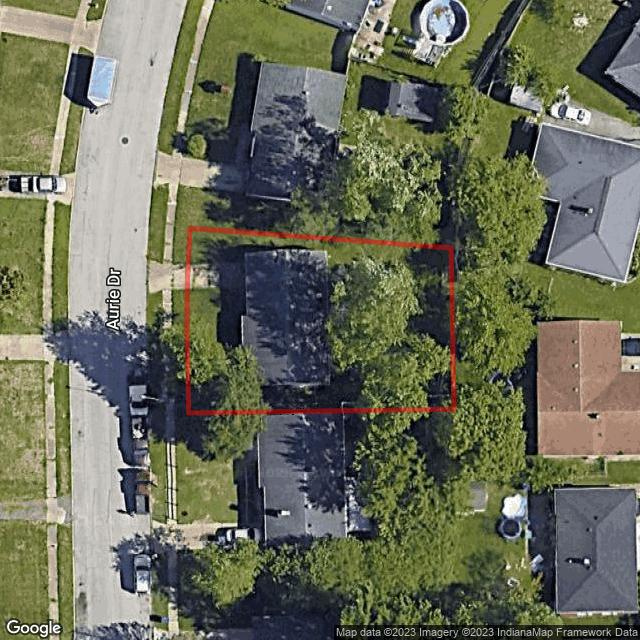Driveway: (190, 264, 245, 291)
Extra Driveway: (147, 259, 186, 297)
Extra Lawn: (146, 289, 165, 412), (172, 290, 185, 413), (147, 221, 166, 264), (173, 225, 188, 265)
Extra Sidewalk: (164, 289, 173, 413), (163, 225, 173, 264)
House: (241, 249, 331, 387)
